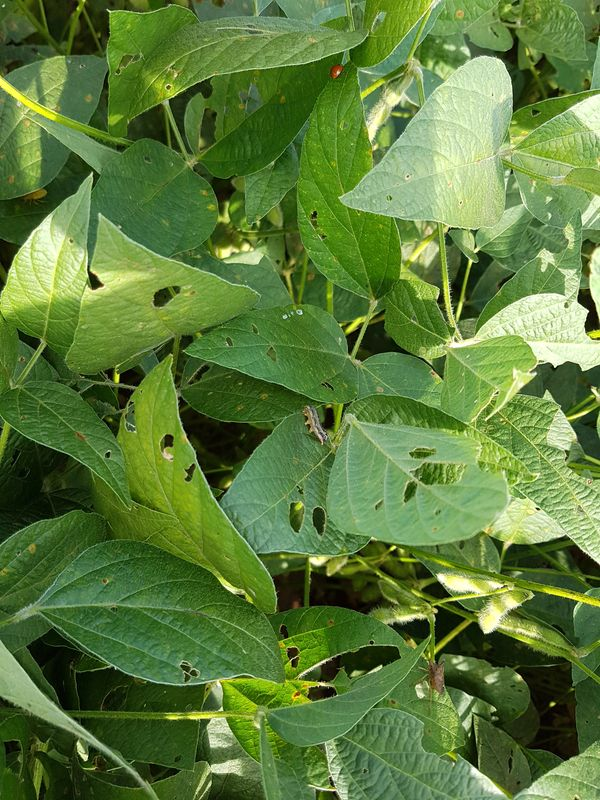Coccinellidae: (325, 61, 351, 85)
Euschistus_heros_adulto: (410, 653, 453, 703)
Spodoptera_albula: (293, 401, 336, 449)
